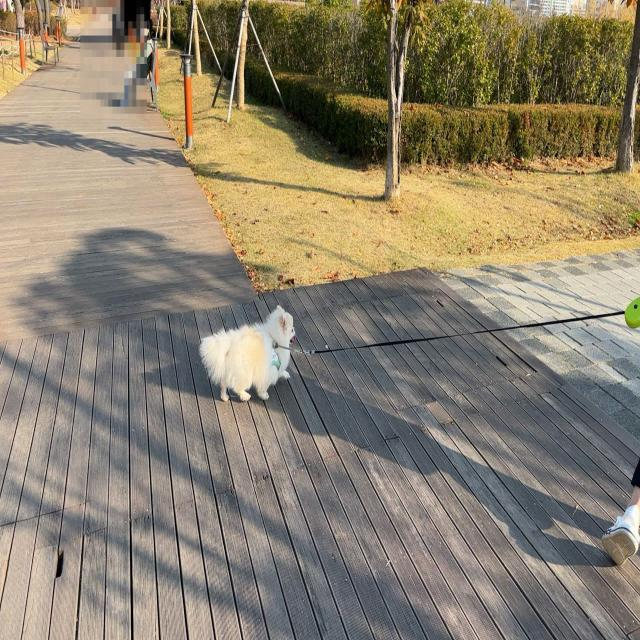Dog: (199, 303, 297, 402)
